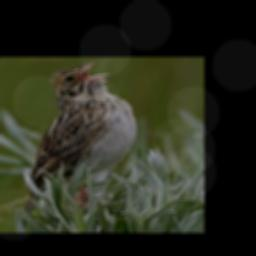Sparrow: (21, 61, 138, 228)
